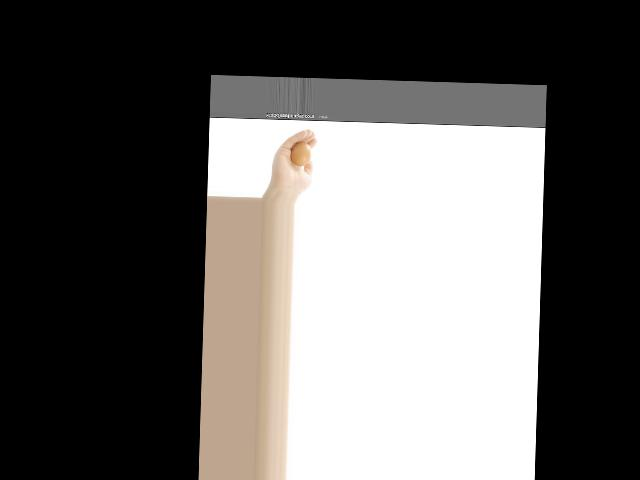egg: (290, 140, 311, 166)
